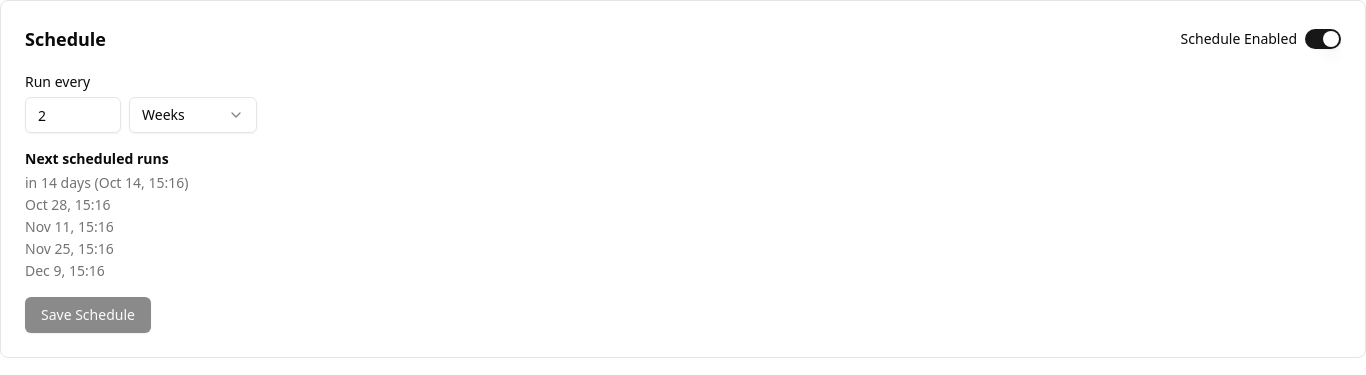
Test: ScheduleBuilder — UI-02: Frontend validation › shows validation error for weeks value above max of 52
Replace the text in the number field with placeholder "Value" with "60" at coordinates (73, 115), box [25,97,121,133]
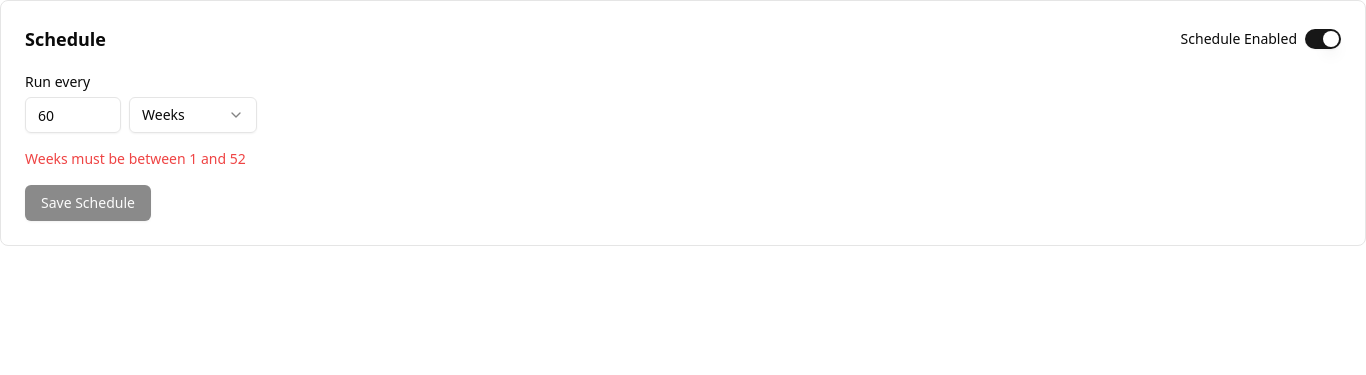
Now the text "Weeks must be between 1 and 52" is shown, box [25,149,246,168]
